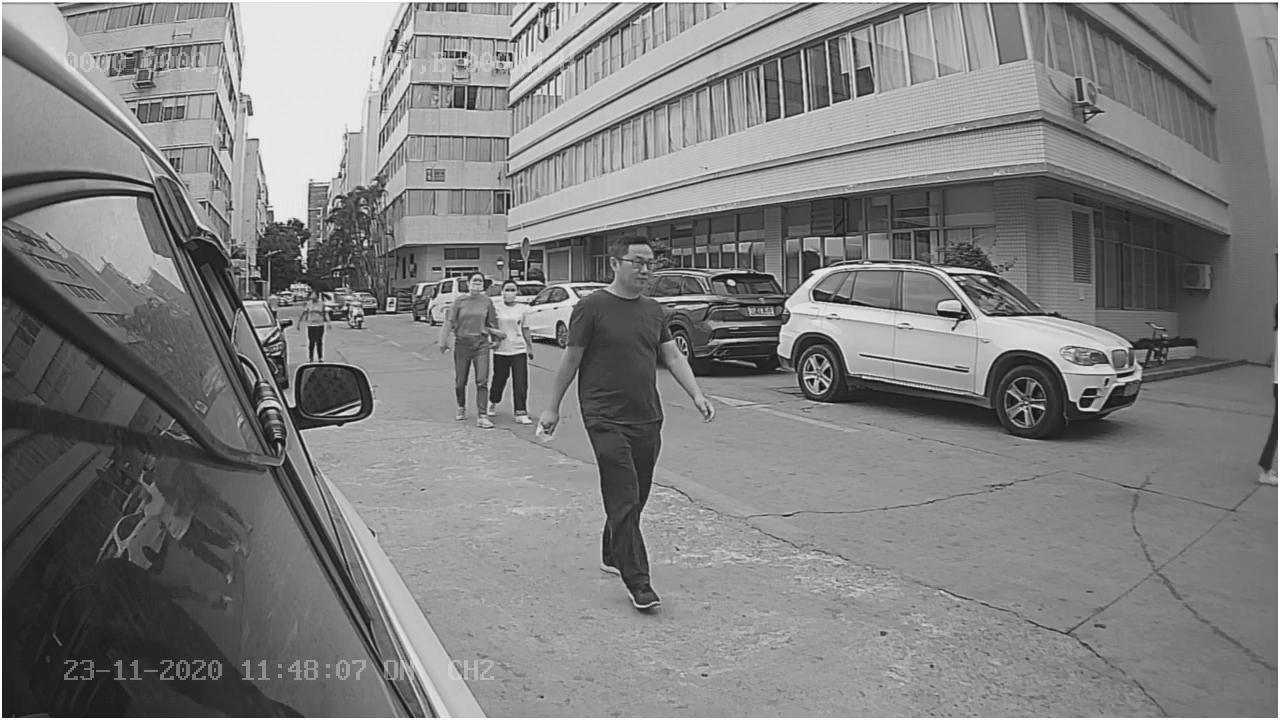person: (536, 233, 713, 607), (438, 270, 497, 433)
